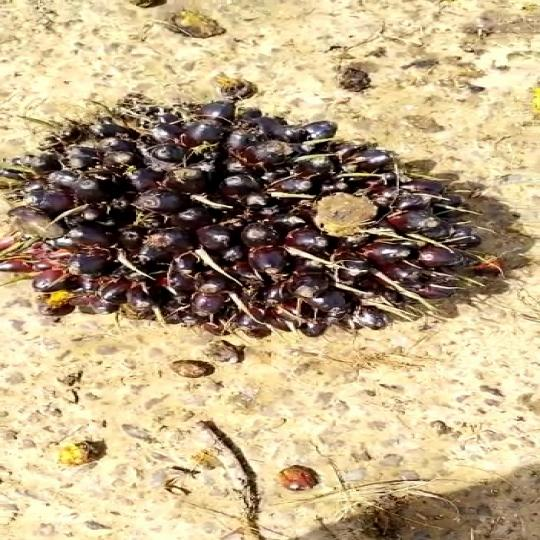mentah: (0, 71, 522, 347)
